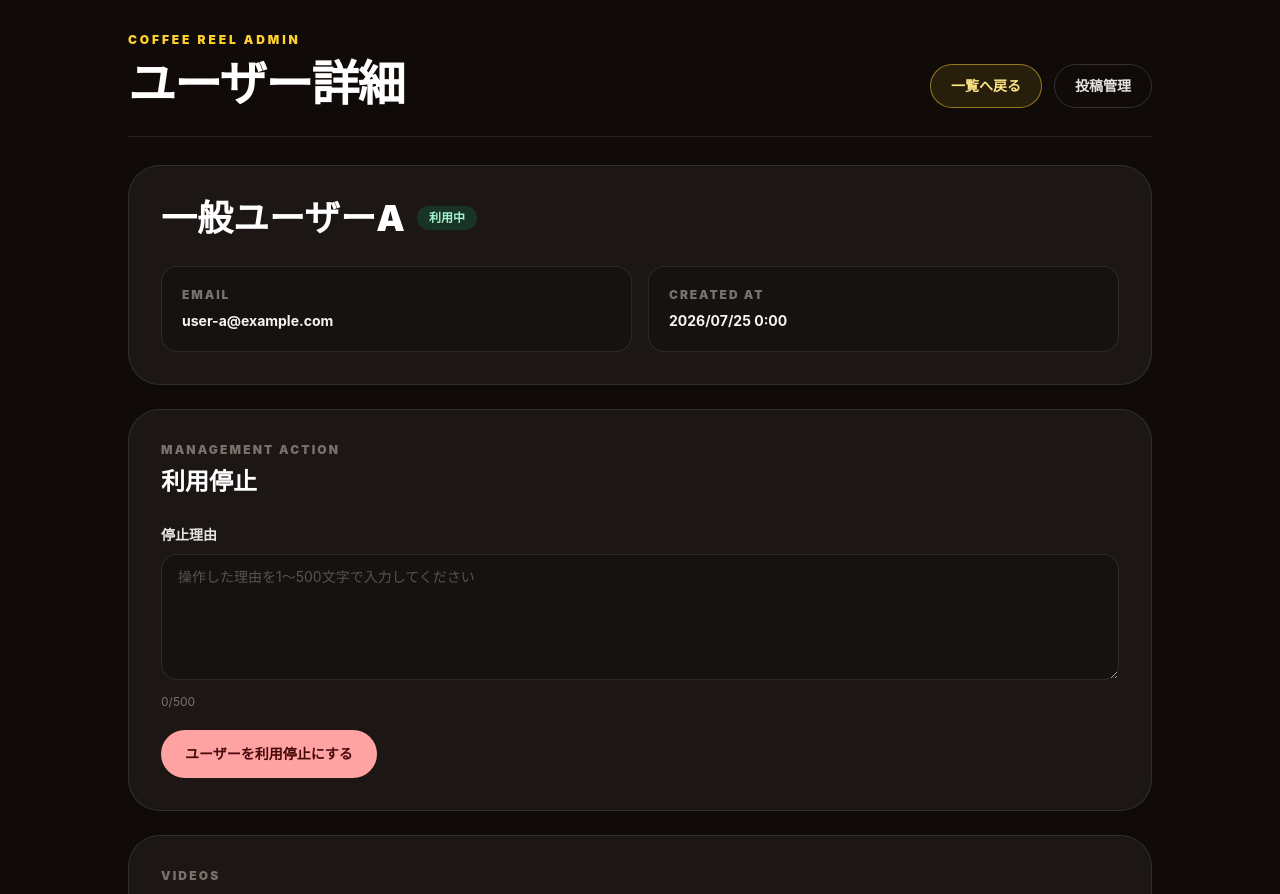
Test: AdminUserDetailPage › 理由をtrimして利用停止し、詳細を再取得する
Expected: the heading "一般ユーザーA" is shown, [161,198,405,238]
Type "  利用規約違反を確認したため  " into the text box labelled "停止理由" at point(640, 617), box [161,554,1119,680]
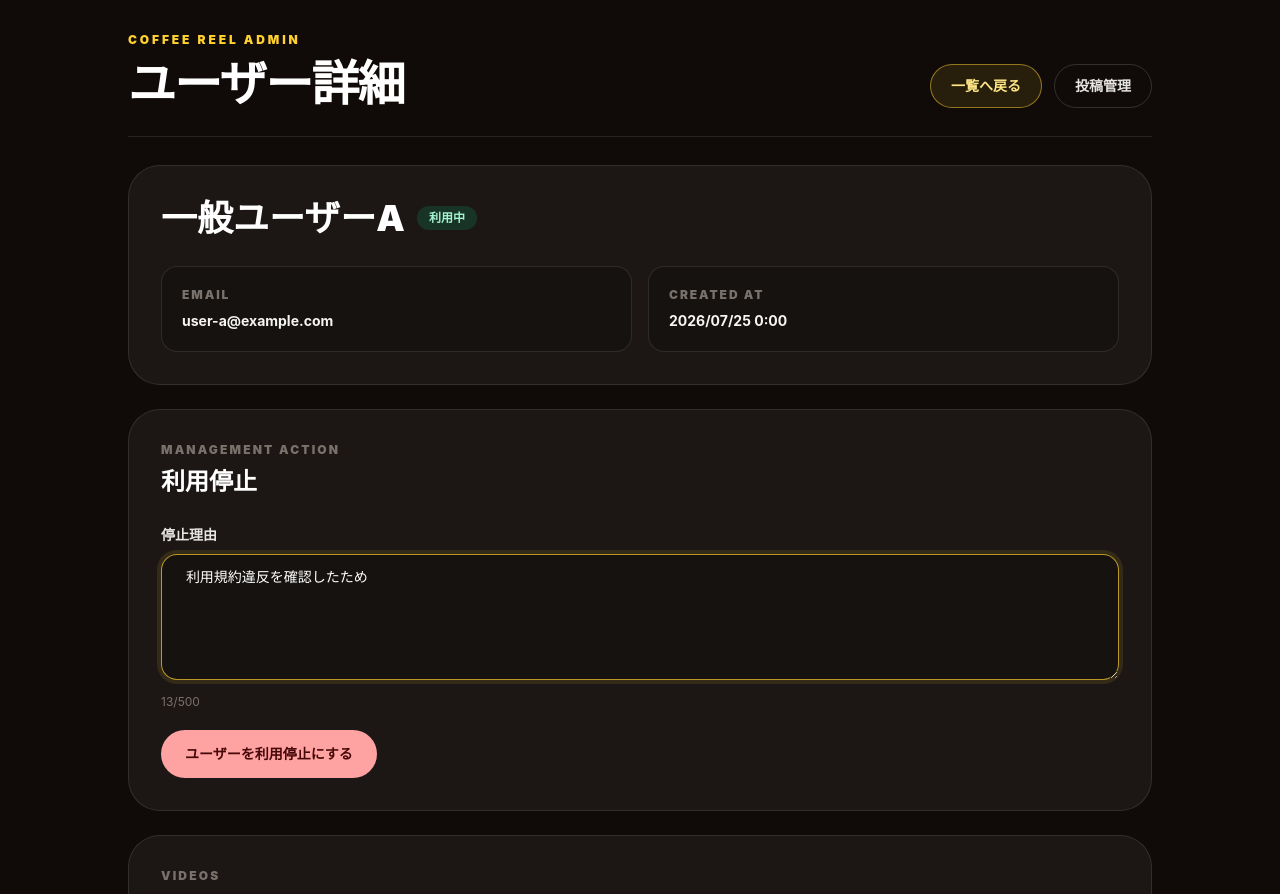
Click the button "ユーザーを利用停止にする" at point(269, 754), box [161,730,377,778]
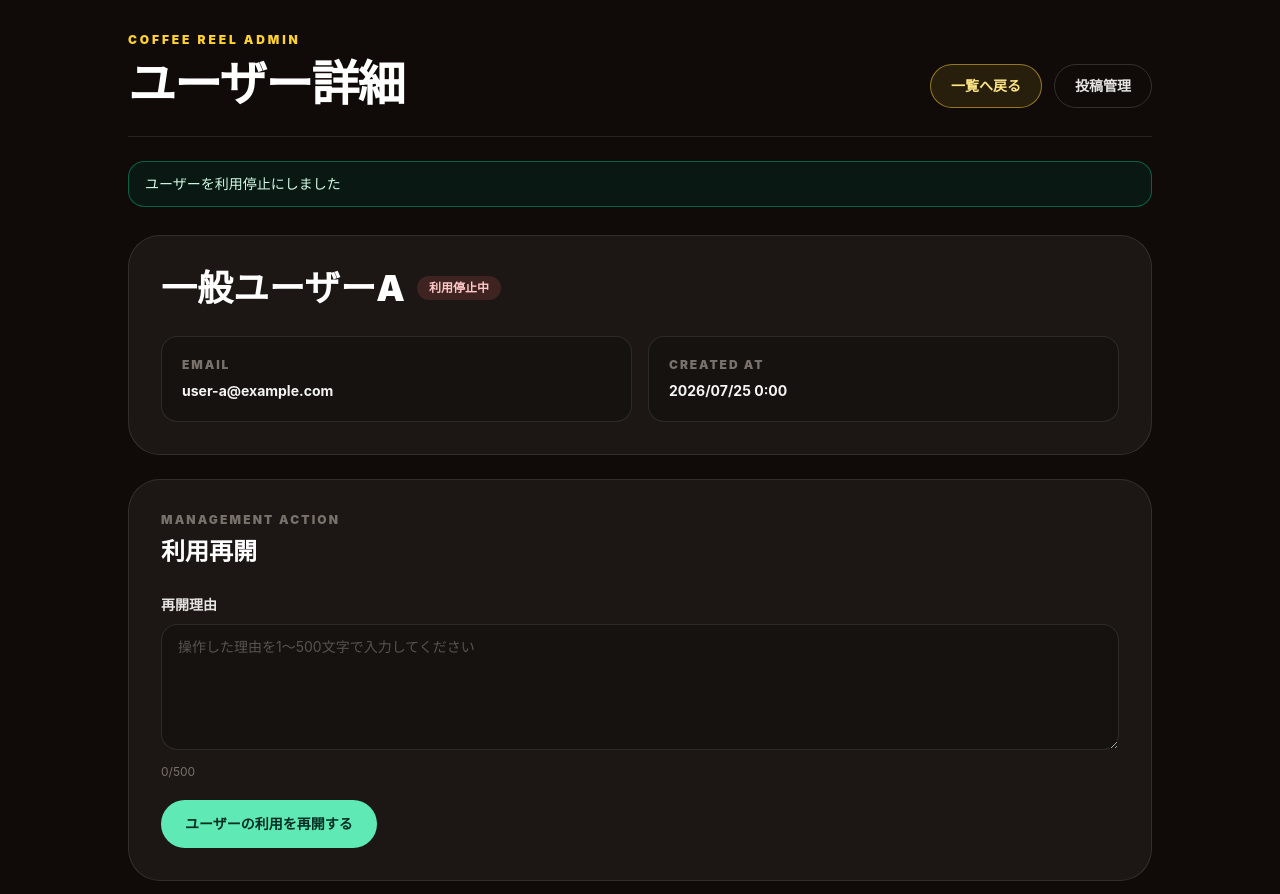
Expected: the text "ユーザーを利用停止にしました" is shown, [128,161,1152,207]
Expected: the text "利用停止中" is shown, [417,276,501,300]
Expected: the text box labelled "再開理由" is empty, [161,624,1119,750]
